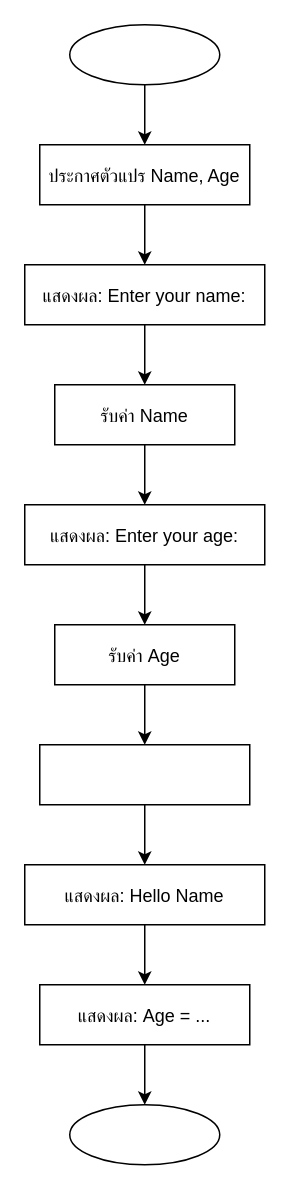
This 290x1190 diagram has some shape labels left out. Here are the shapes that lost their labels. From the top down, the centre of each, then its label:
(144,54): Start
(144,774): แสดงผล: - - - - -
(144,1134): Stop
